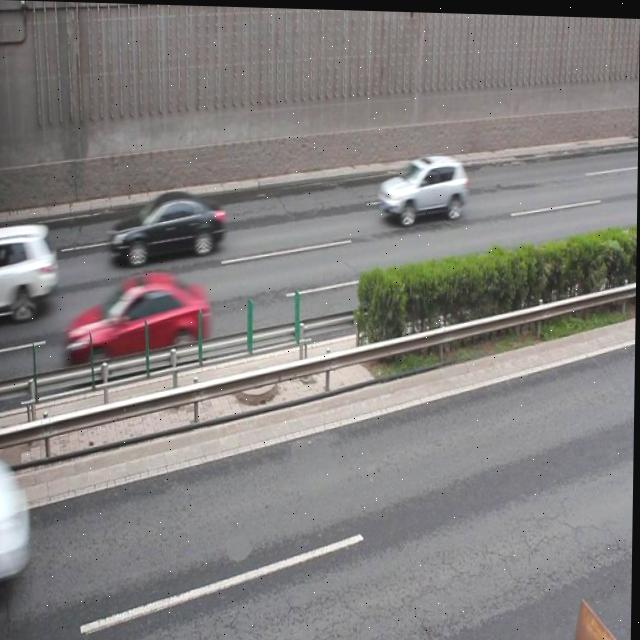car: (67, 273, 210, 364), (110, 191, 225, 264), (381, 152, 467, 224), (0, 219, 55, 322)
